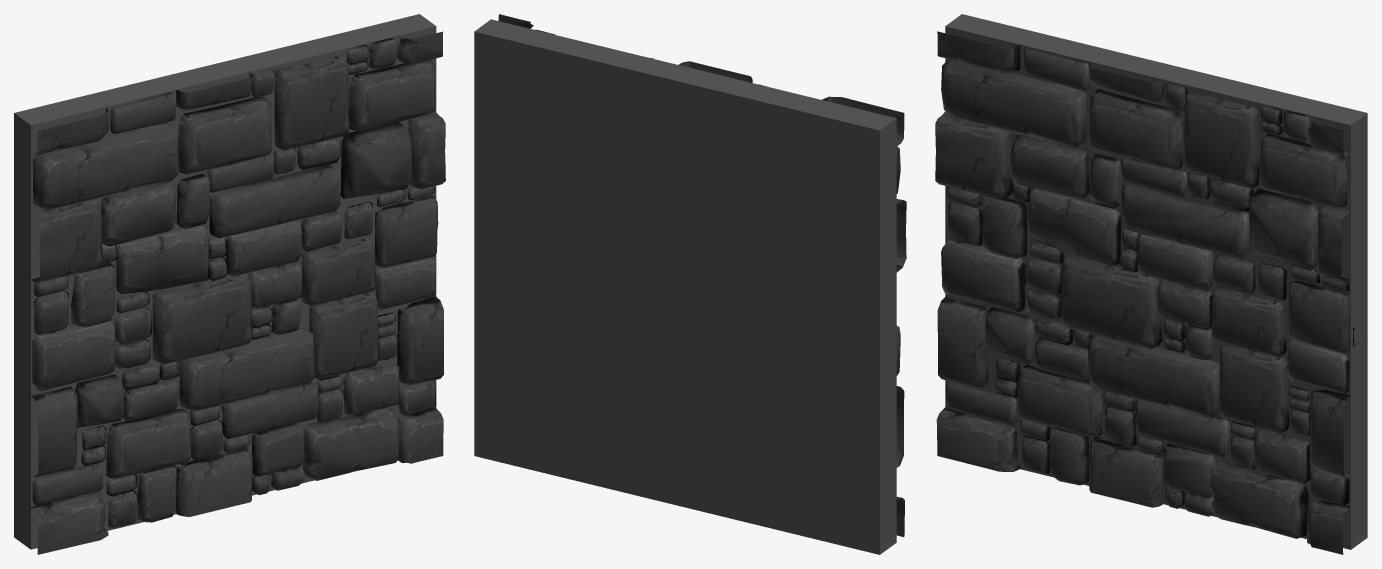
The model's file is Wall_04.fbx.
3 views of the same model, side by side, from view 1: azimuth 30°, elevation 25°; view 2: azimuth 150°, elevation 25°; view 3: azimuth 330°, elevation 25° (orthographic).
Parts seen in each view (by area): view 1: Wall_Plain; view 2: Wall_Plain; view 3: Wall_Plain.
Boxes of the visible parts, box(x1,y1,x2,y2) form: Wall_Plain: box(14, 14, 445, 554); Wall_Plain: box(474, 14, 906, 554); Wall_Plain: box(935, 14, 1367, 554).
Size of the model in its own units: 302 by 300 by 34.44.
